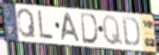A: (60, 12, 81, 43)
D: (121, 16, 141, 49), (80, 12, 99, 45)
L: (37, 10, 55, 40)
Q: (101, 14, 124, 47), (16, 8, 37, 40)
